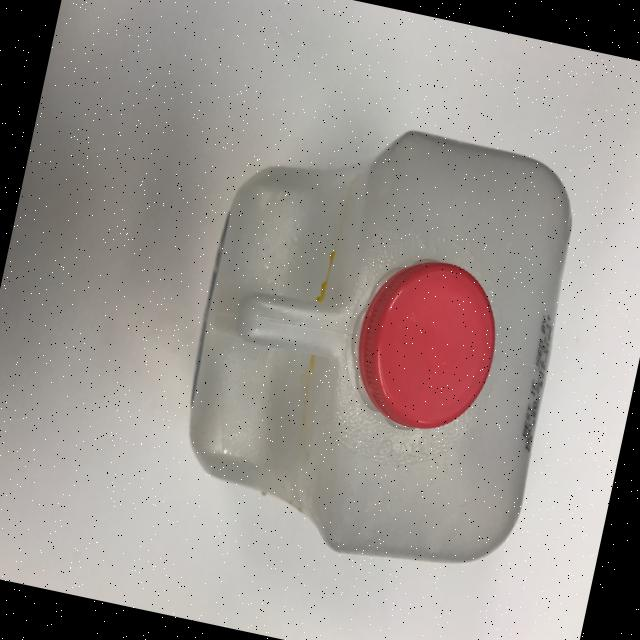plastic: (161, 93, 594, 588)
